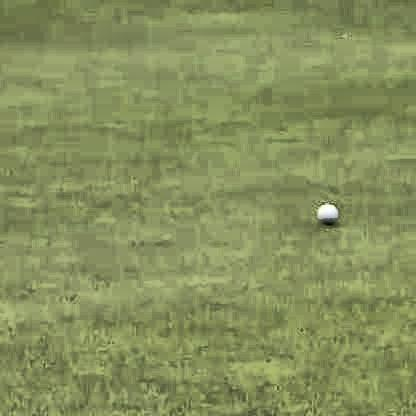golfball: (314, 198, 337, 223)
